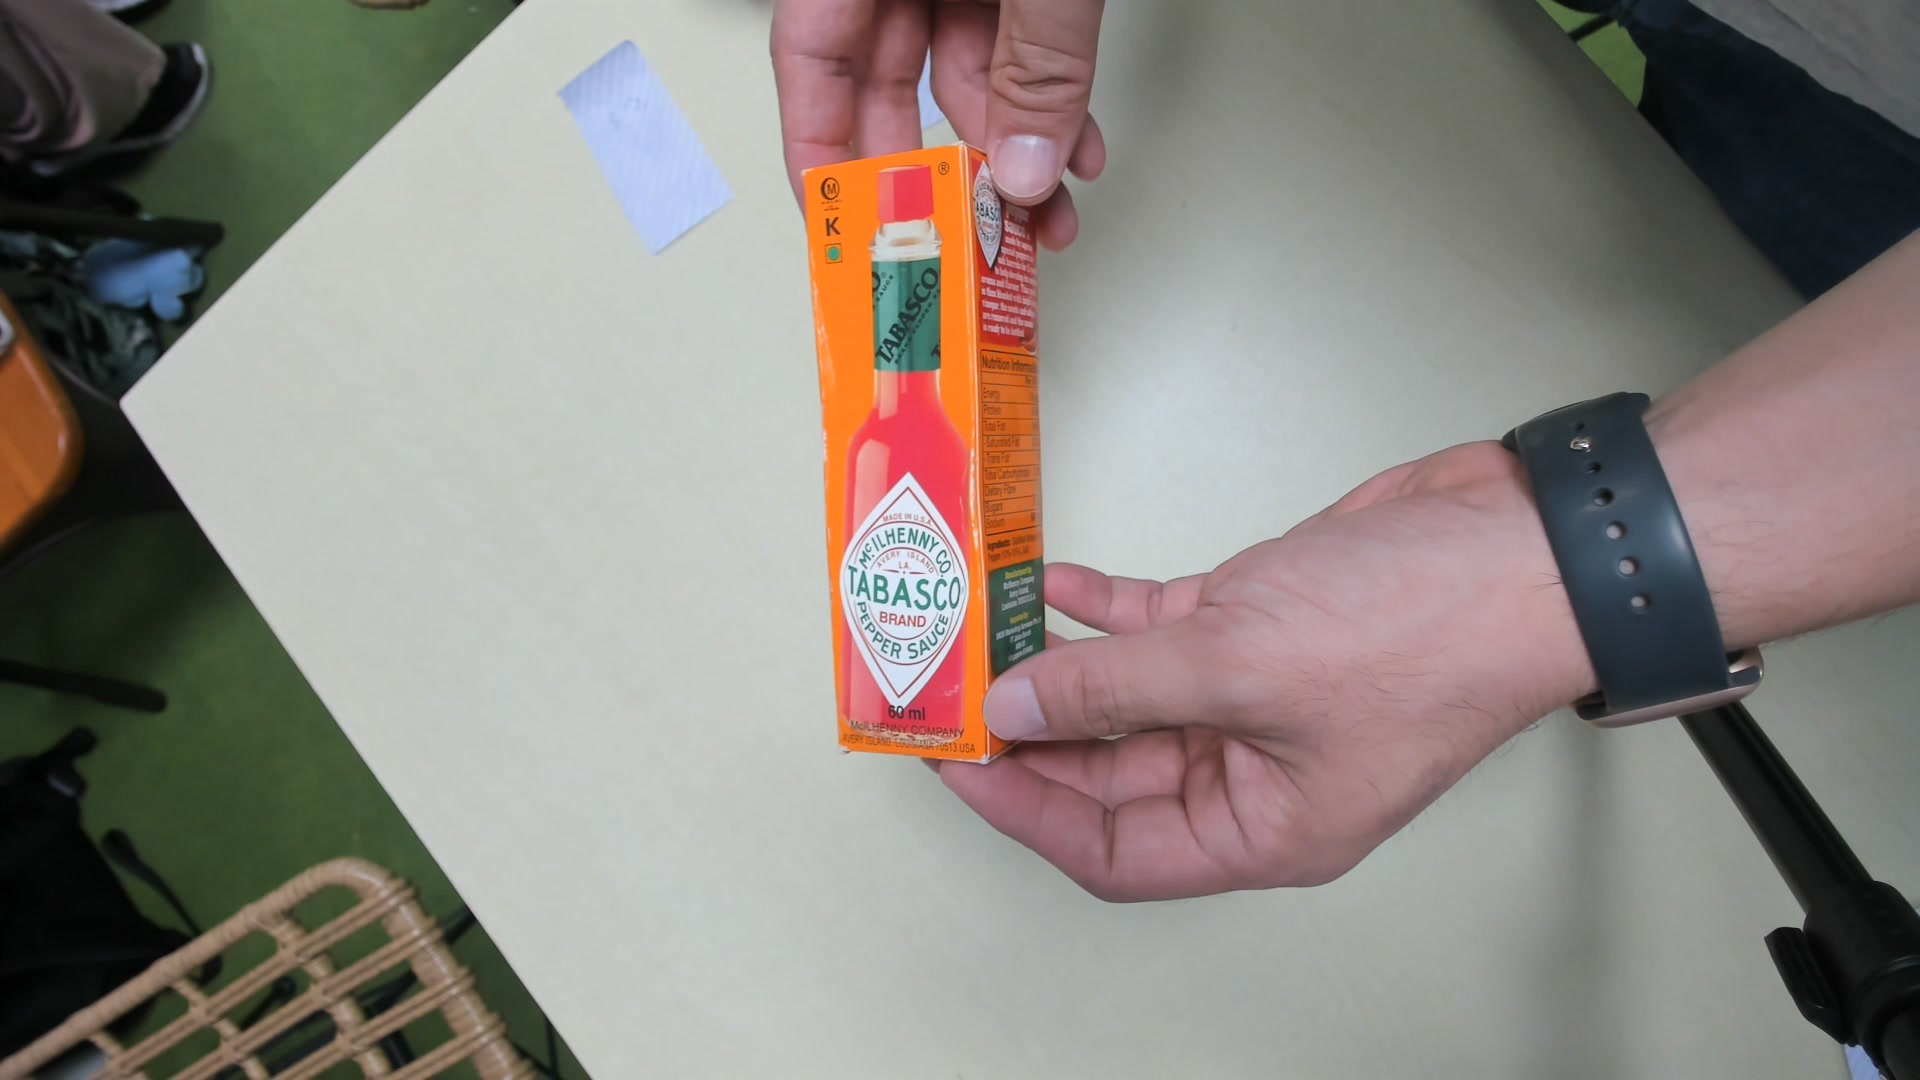KetchupChillSauce_0-99g_NonHalal_NonHealthy: (798, 150, 1050, 775)
